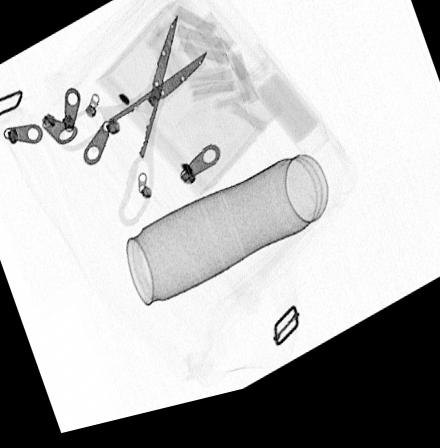Scissors: (54, 24, 209, 235)
